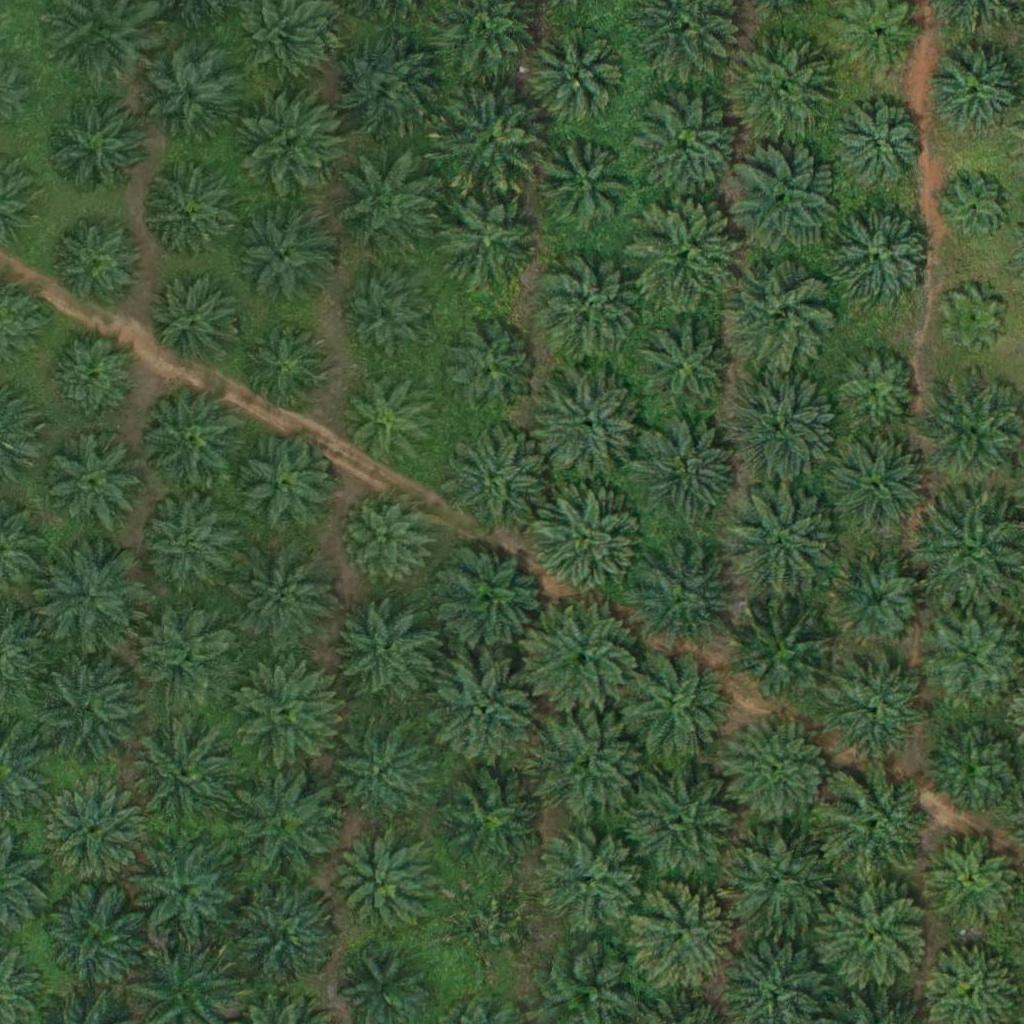Kelapa_Sawit: (137, 37, 250, 151), (730, 596, 843, 710), (438, 421, 551, 535), (233, 88, 346, 202), (35, 882, 148, 996), (615, 648, 728, 762), (722, 714, 835, 828), (820, 767, 933, 881), (817, 878, 930, 992), (629, 93, 742, 206), (722, 259, 835, 372), (726, 372, 839, 485), (727, 487, 840, 600), (627, 197, 740, 310), (629, 317, 742, 430), (430, 542, 543, 655), (228, 428, 341, 541), (37, 547, 150, 660), (36, 648, 149, 761), (429, 657, 542, 770), (432, 763, 545, 876), (718, 827, 831, 940), (625, 536, 737, 650), (535, 367, 647, 481), (531, 488, 643, 602), (331, 152, 443, 266), (331, 29, 443, 142), (724, 31, 836, 144), (826, 203, 938, 316), (820, 434, 932, 547), (726, 144, 838, 257), (630, 419, 742, 532), (536, 251, 648, 364), (432, 85, 544, 198), (231, 541, 343, 654), (135, 385, 247, 498), (129, 717, 241, 830), (128, 832, 240, 945), (229, 656, 341, 769), (228, 771, 340, 884), (231, 882, 343, 995), (526, 603, 638, 716), (531, 707, 643, 820), (532, 825, 644, 938), (627, 766, 739, 879), (628, 881, 740, 994), (527, 26, 627, 127), (828, 551, 928, 652), (533, 135, 633, 236), (137, 493, 237, 594), (46, 92, 146, 193), (47, 208, 147, 309), (43, 426, 143, 527), (40, 779, 140, 880), (138, 604, 238, 705), (337, 598, 437, 699), (326, 723, 426, 824), (335, 843, 435, 944), (436, 194, 536, 294), (437, 324, 537, 424), (336, 367, 436, 467), (233, 209, 333, 309), (140, 162, 240, 262), (831, 656, 931, 756), (835, 104, 923, 192), (832, 344, 920, 432), (148, 282, 236, 370), (50, 330, 138, 418), (453, 887, 540, 976), (338, 275, 425, 363), (345, 494, 432, 582), (236, 322, 323, 410), (946, 177, 1009, 240), (941, 288, 1004, 351)
